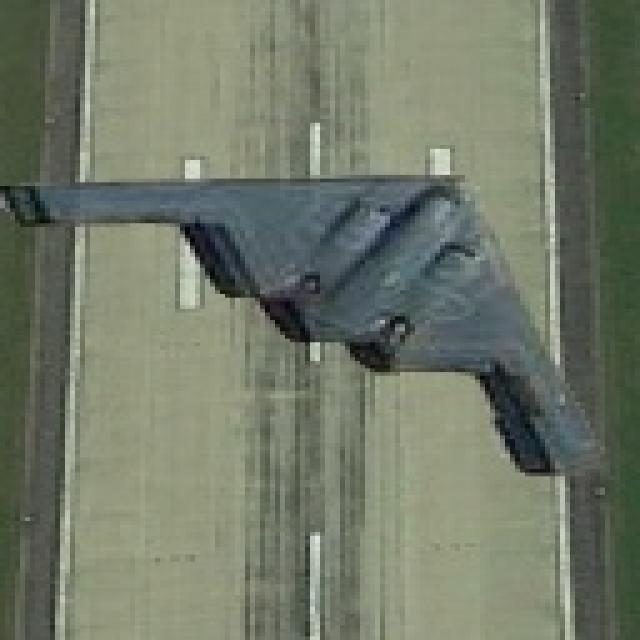B-2_TopDown: (0, 160, 605, 476)
